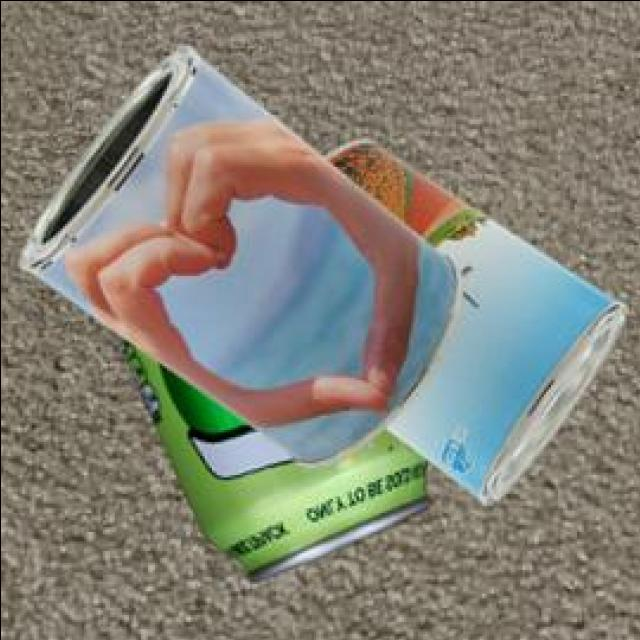logam: (23, 41, 466, 463), (326, 139, 629, 501), (119, 328, 435, 577)
